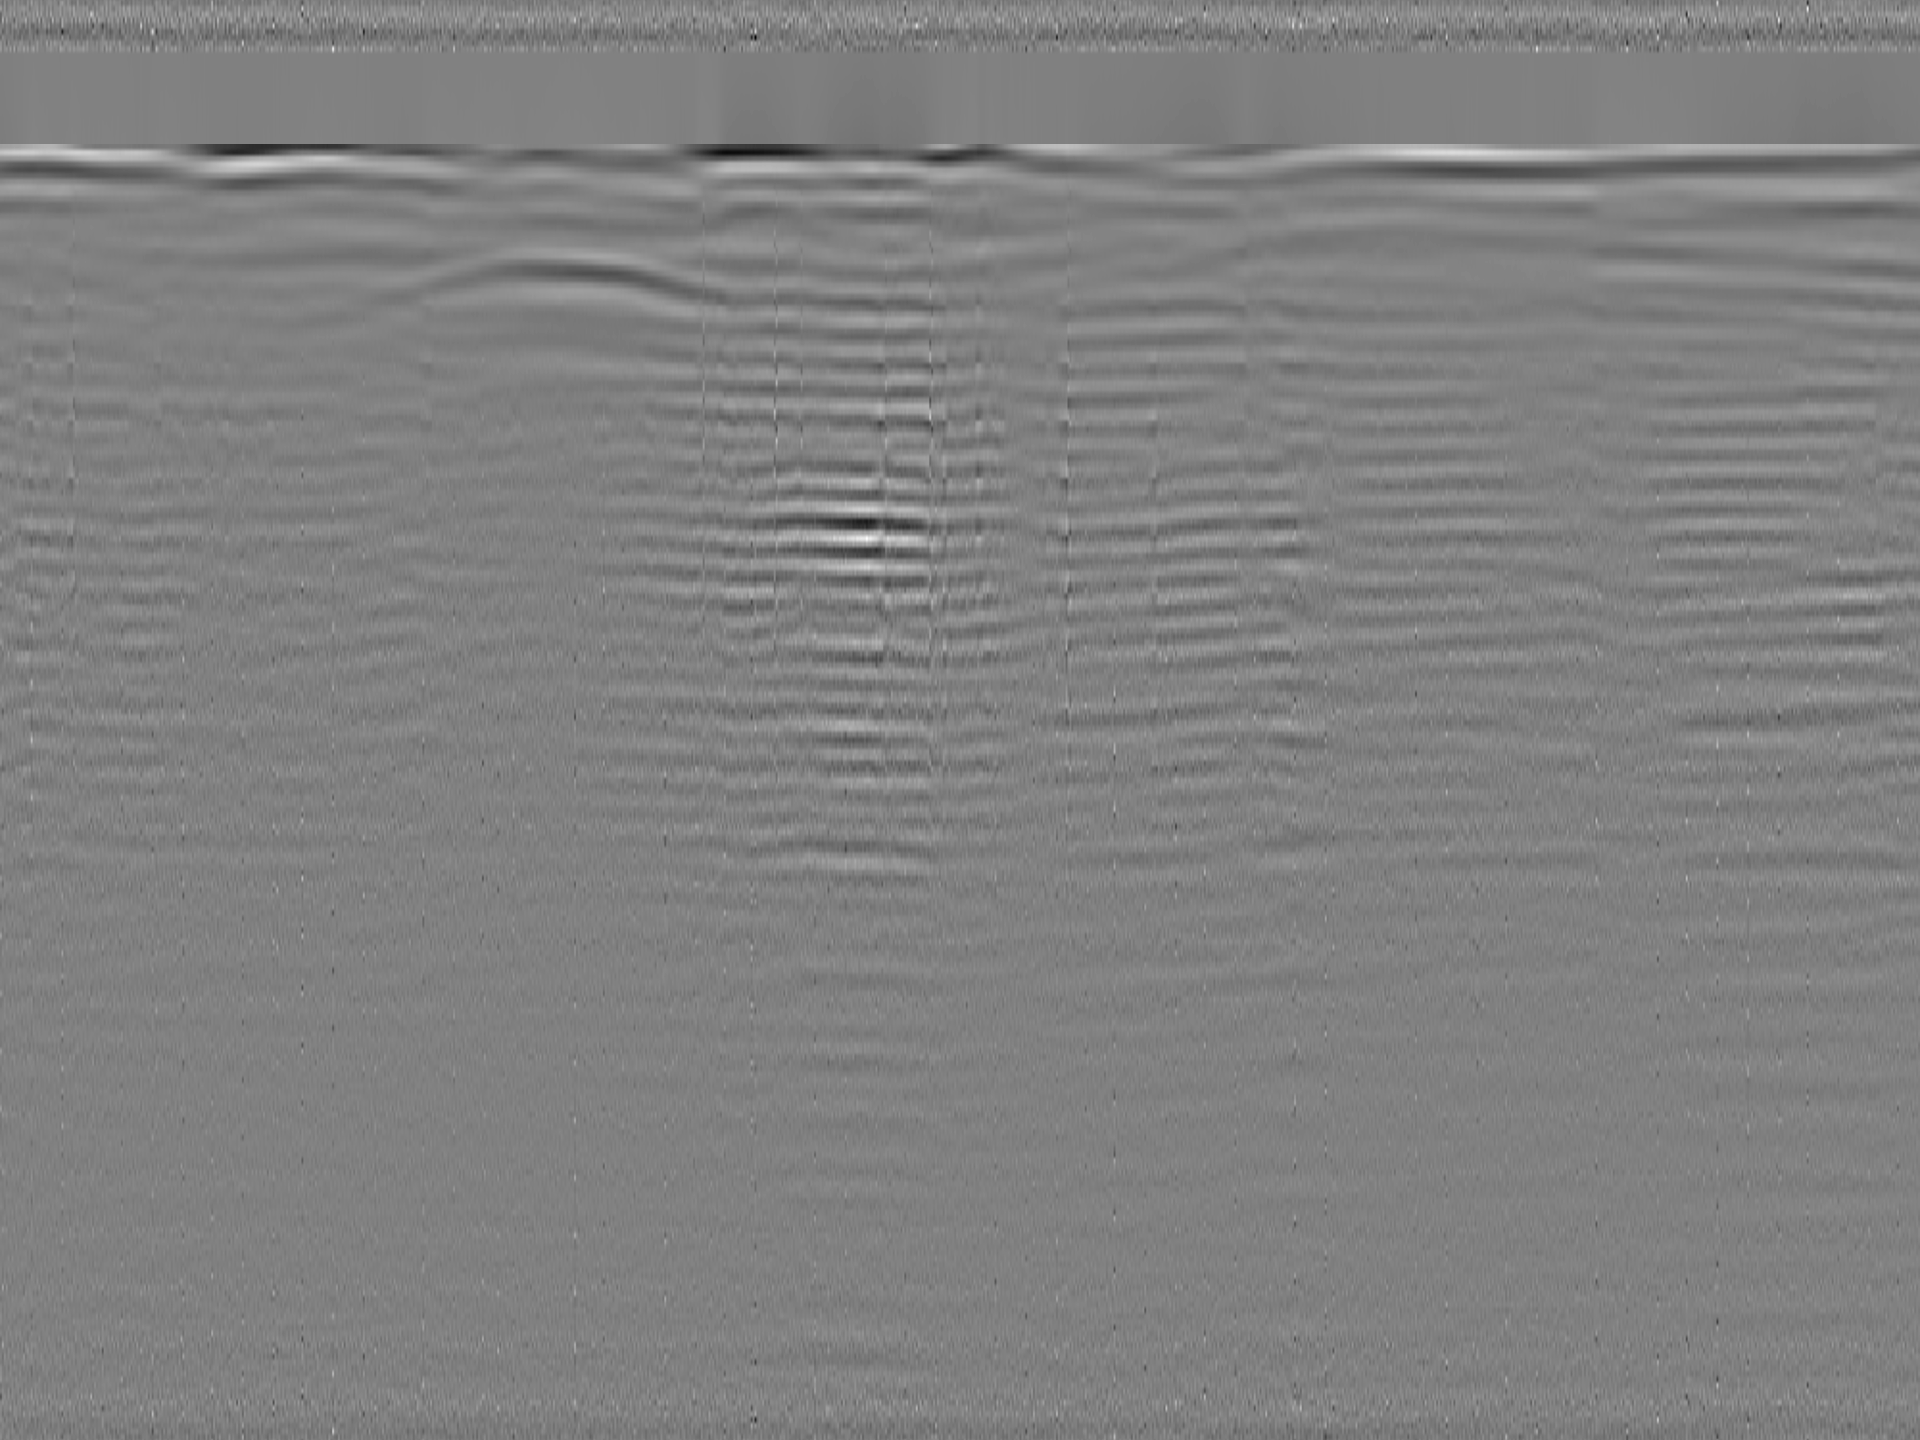Tunnel: (429, 245, 733, 331)
